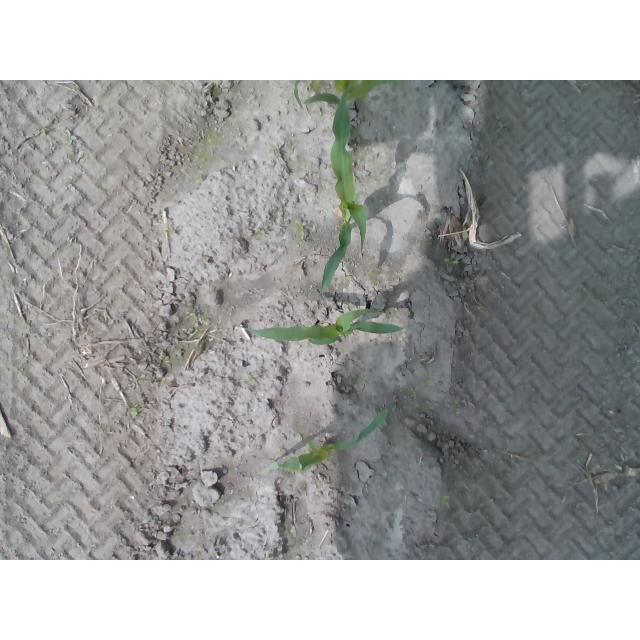Maize: (321, 90, 368, 286), (262, 409, 388, 471), (249, 308, 404, 347), (296, 80, 401, 108)
Weeds: (130, 401, 145, 418), (61, 128, 75, 145), (295, 223, 307, 242), (443, 257, 460, 265), (410, 386, 420, 399), (439, 495, 451, 505), (254, 227, 265, 237), (247, 378, 257, 386)
